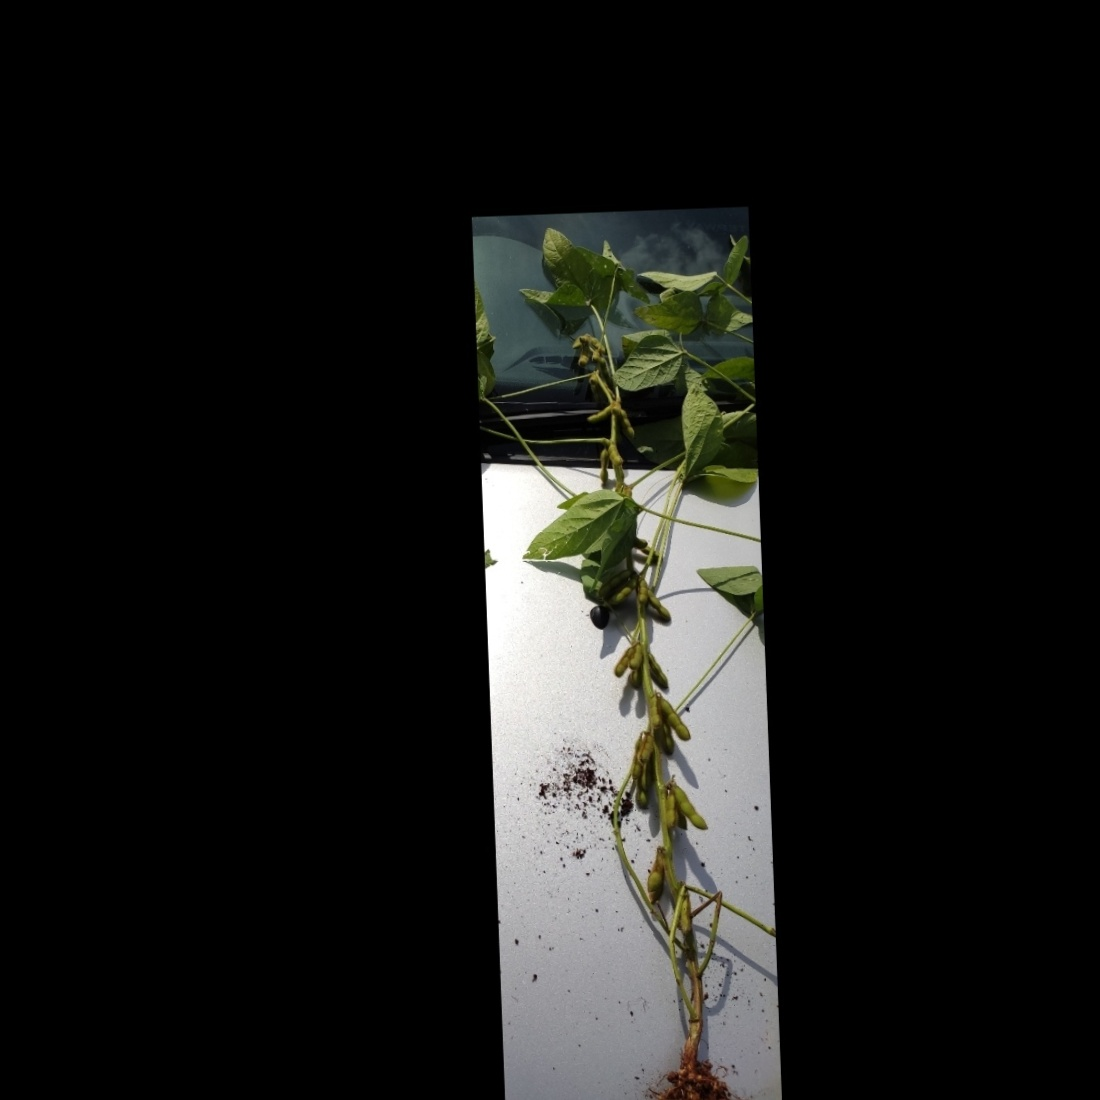pod: (652, 692, 692, 744), (671, 780, 711, 832), (601, 578, 640, 611), (595, 568, 636, 599), (647, 650, 678, 690), (643, 848, 668, 895), (633, 758, 652, 812), (610, 642, 638, 679), (643, 586, 672, 621), (614, 403, 638, 443), (583, 400, 615, 424), (647, 686, 663, 733), (636, 728, 656, 766), (624, 642, 645, 674), (603, 437, 624, 470), (595, 448, 610, 489), (634, 571, 649, 607)
soy: (482, 264, 774, 1100)
